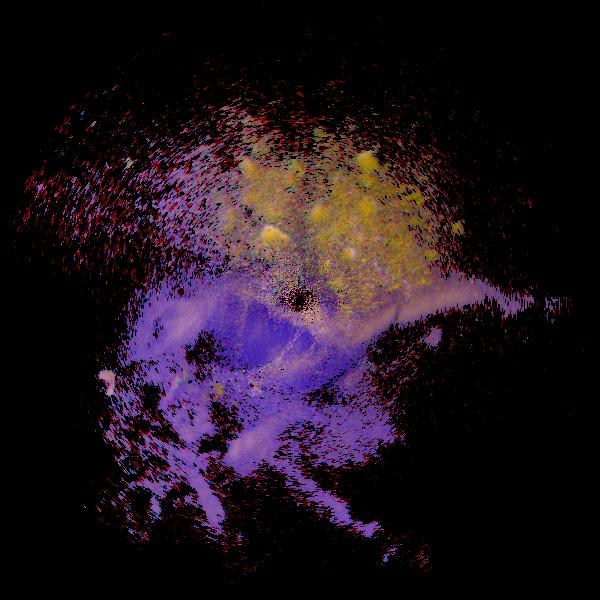roost: (92, 371, 119, 398), (161, 371, 182, 392)
